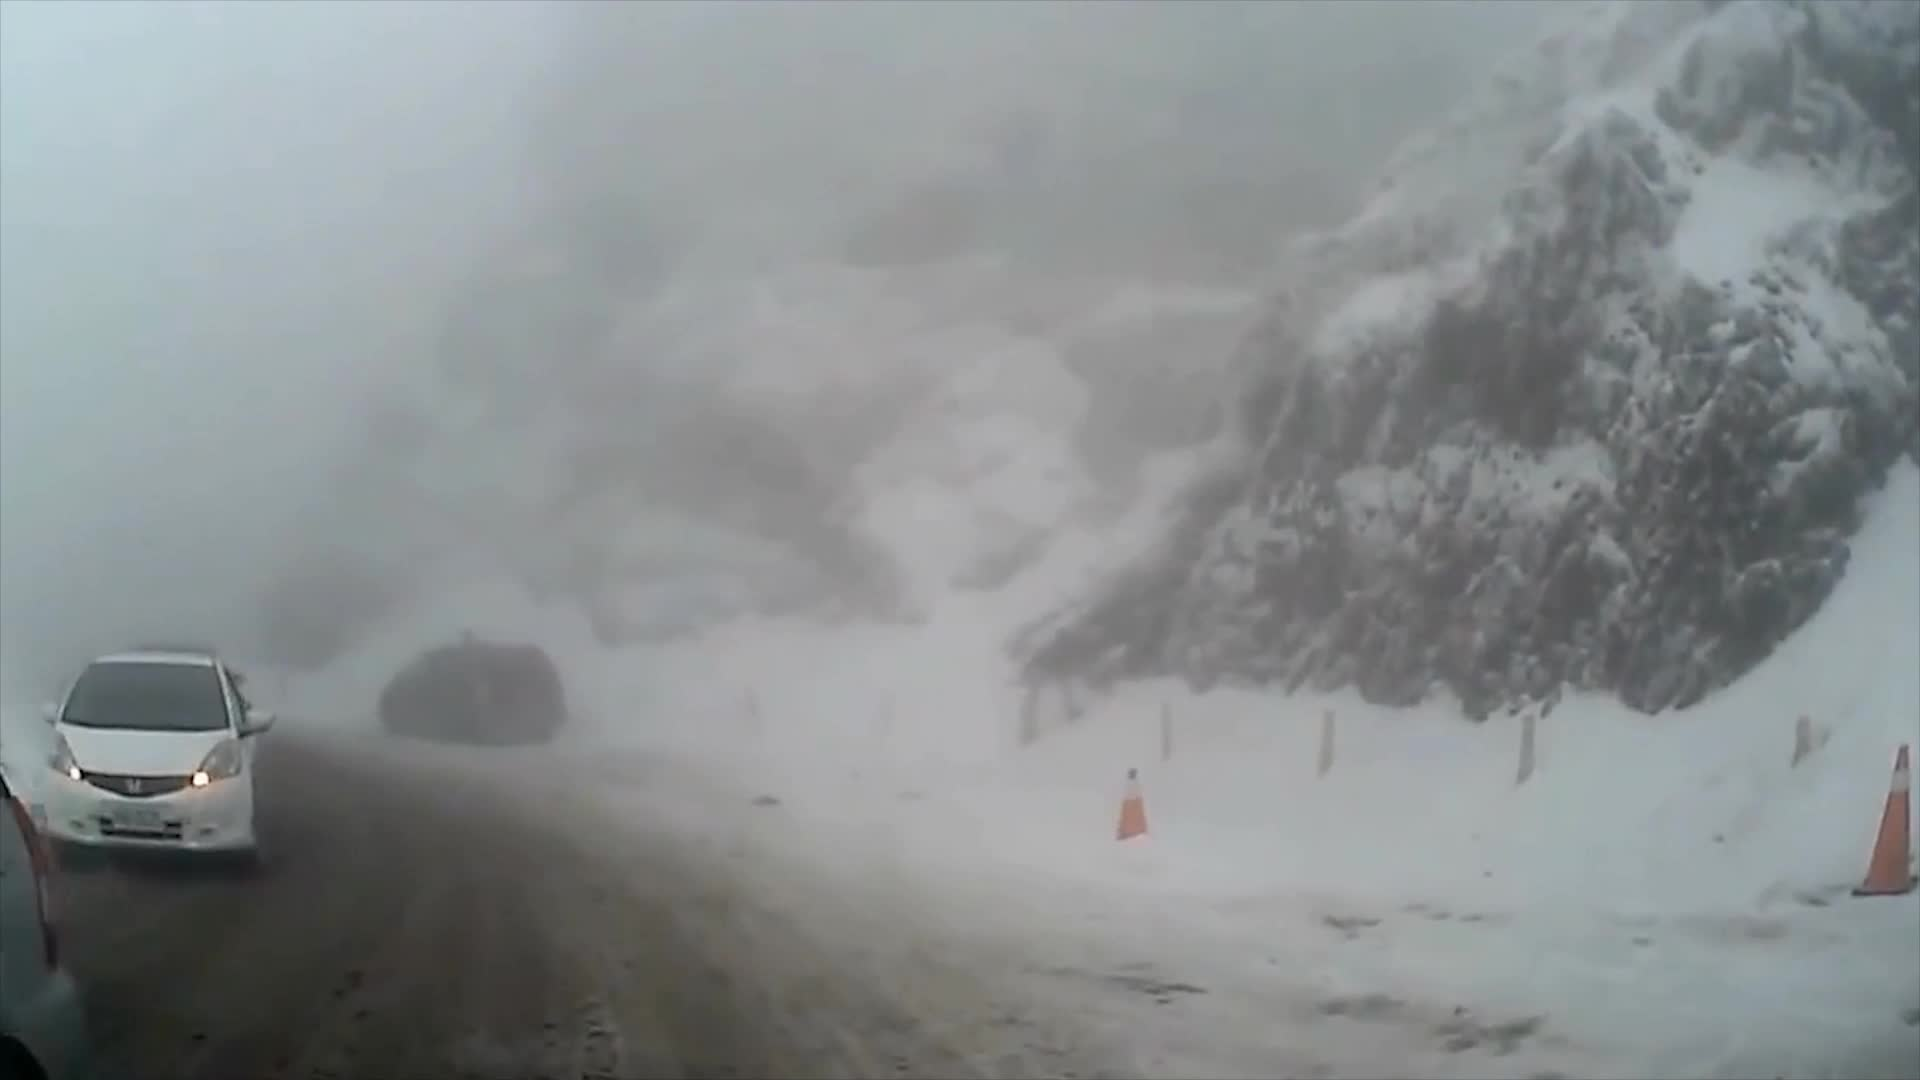vehicle: (32, 647, 272, 876), (0, 771, 87, 1080), (381, 646, 568, 752)
